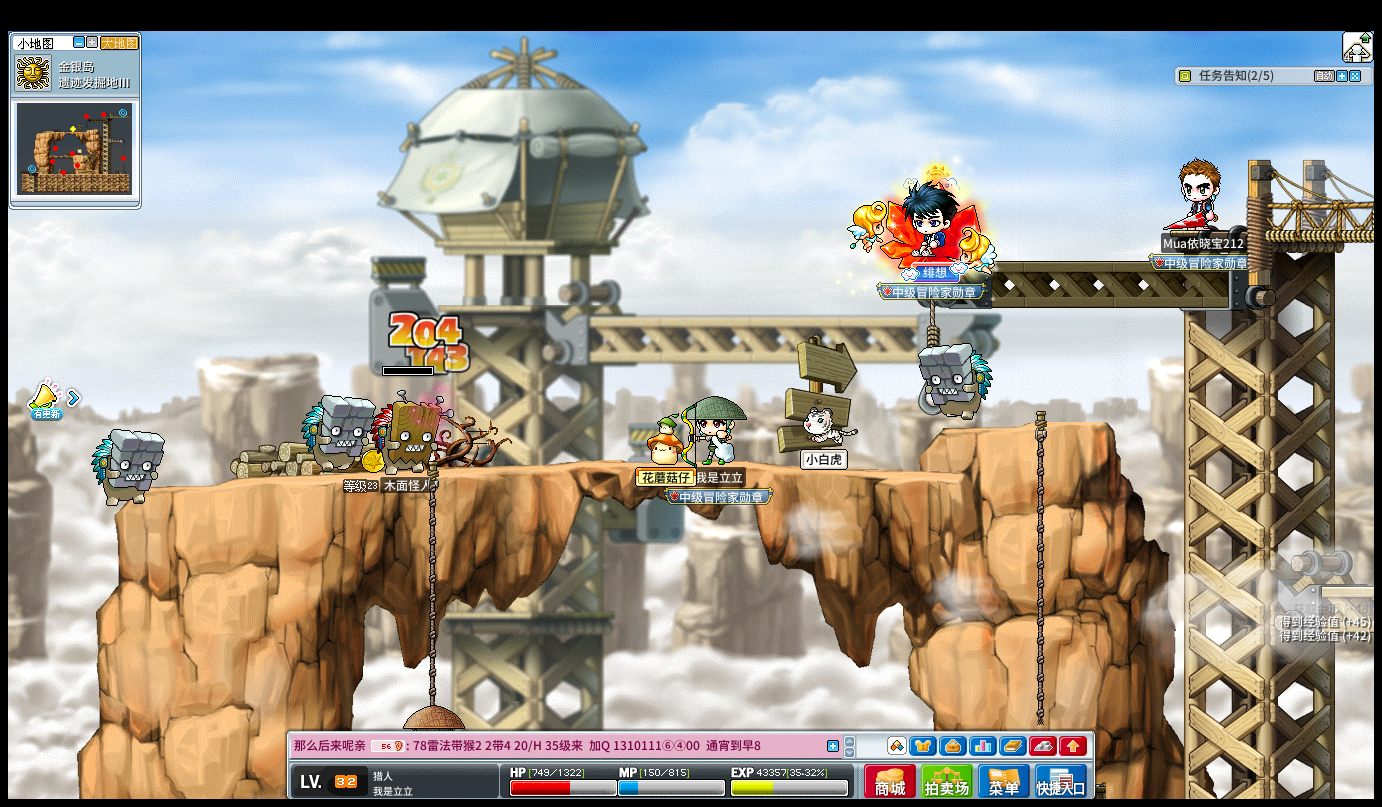floor: (163, 455, 992, 482), (935, 417, 1114, 434), (1319, 583, 1378, 595)
monster: (917, 342, 993, 428), (372, 392, 448, 472), (301, 394, 374, 475), (90, 429, 164, 507)
rope: (1031, 407, 1047, 736), (1032, 408, 1046, 677), (425, 459, 438, 708)
